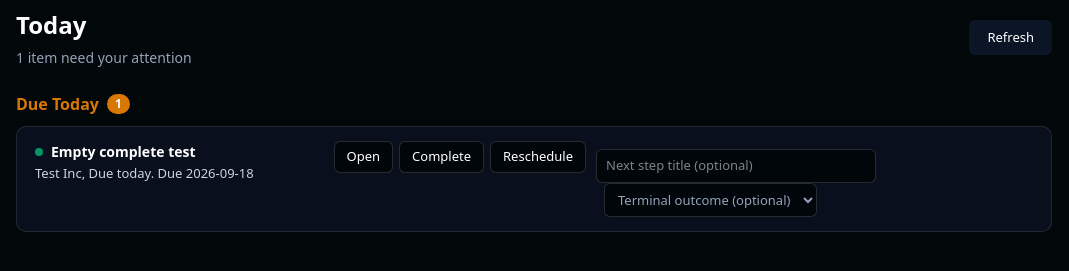
TodayScreen › shows guidance when Complete clicked without outcome or next step
This screenshot has width=1069, height=271.
expect the text "Empty complete test" is shown: met, box [51,141,196,162]
Click the button "Complete". click: (442, 157)
box: [399,141,484,172]
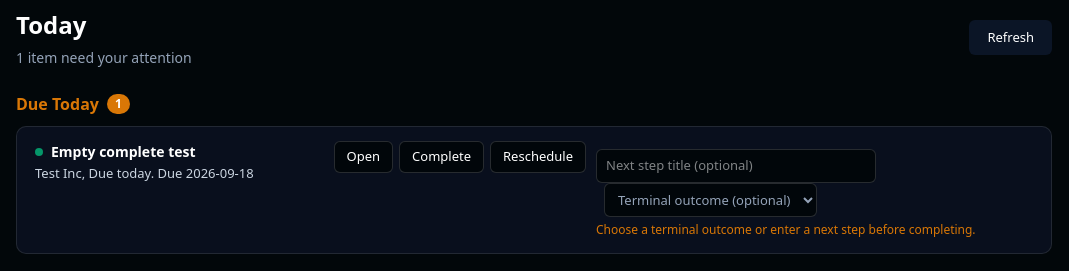
expect the text "Choose a terminal outcome" is shown: met, box [596,220,976,238]
